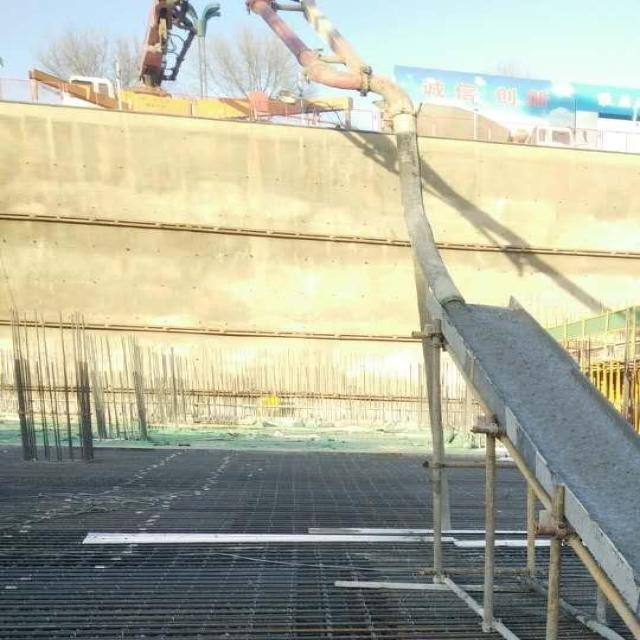truck: (18, 0, 466, 315)
